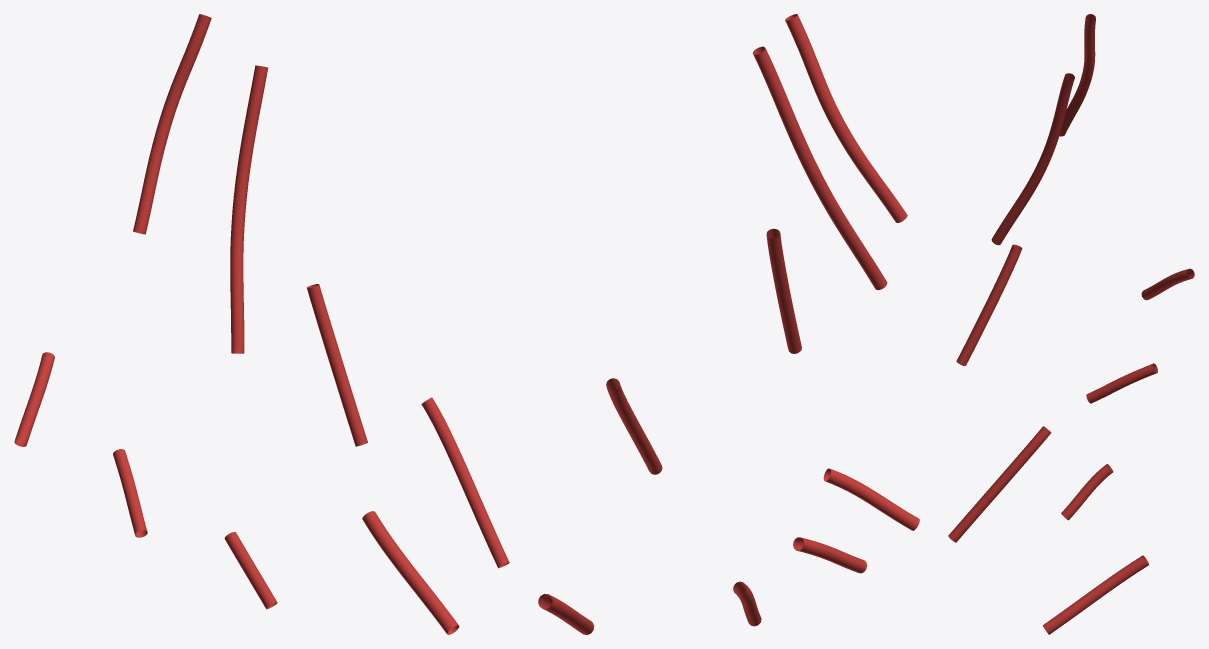
The picture shows the model from 3 angles, left to right: view 1: azimuth 30°, elevation 25°; view 2: azimuth 150°, elevation 25°; view 3: azimuth 270°, elevation 25°; orthographic projection. The views are drawn at different scales.
Parts seen in each view (by area): view 1: 右侧跖足底动脉穿支; view 2: 右侧跖足底动脉穿支; view 3: 右侧跖足底动脉穿支.
Part boxes in pixels (<box>): 右侧跖足底动脉穿支: <box>14,14,509,634</box>; 右侧跖足底动脉穿支: <box>538,14,919,634</box>; 右侧跖足底动脉穿支: <box>948,14,1194,634</box>.
Size of the model in its own units: 0.0591 by 0.0969 by 0.0407.
